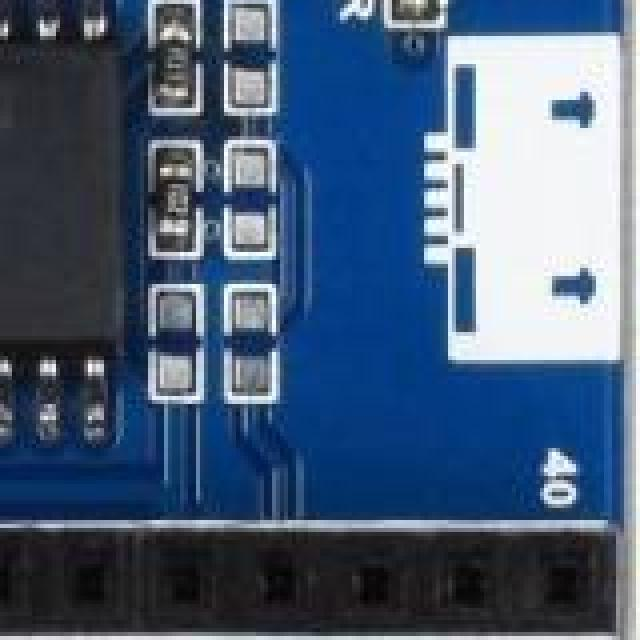IC: (0, 0, 124, 416)
LED: (380, 0, 448, 32)
connector: (0, 536, 604, 640)
resistor: (152, 148, 212, 306), (156, 12, 208, 128)
